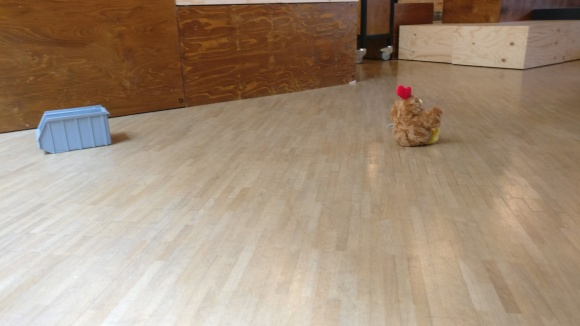chicken: (388, 83, 444, 148)
tray: (35, 103, 114, 154)
